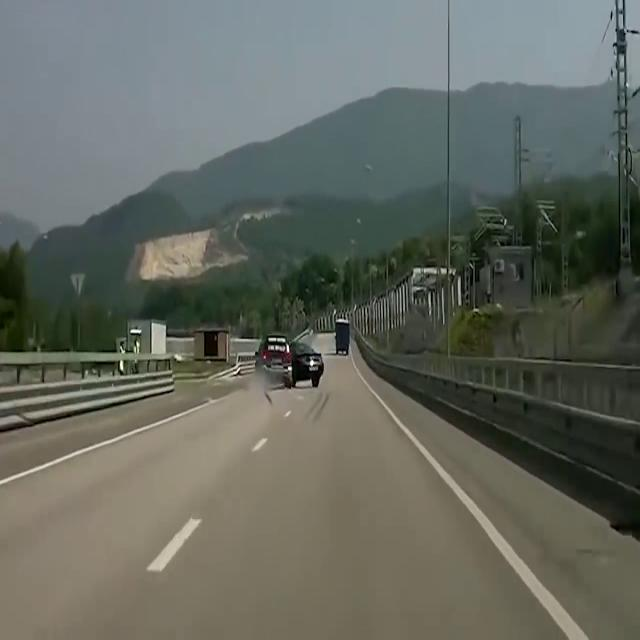multiple_accident: (225, 282, 353, 402)
